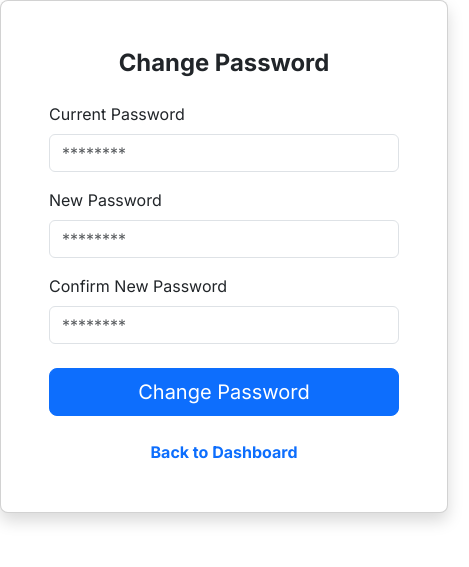
Scenario: ProfileSettings › shows validation error for empty new password
Type "oldpass" into the password field labelled "Current Password" at point(224, 153), box left=49, top=134, right=399, bottom=172
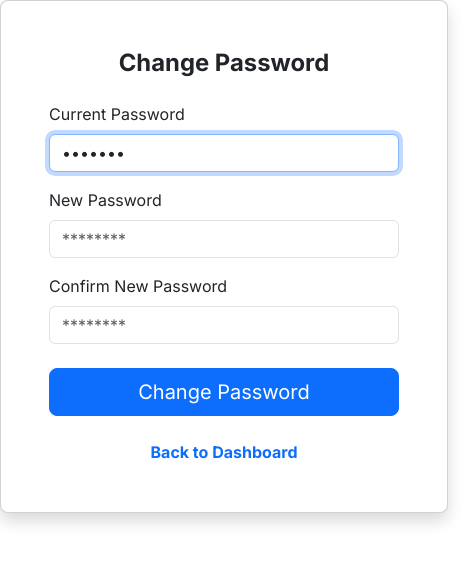
Click the button "Change Password" at point(224, 392), box left=49, top=368, right=399, bottom=416
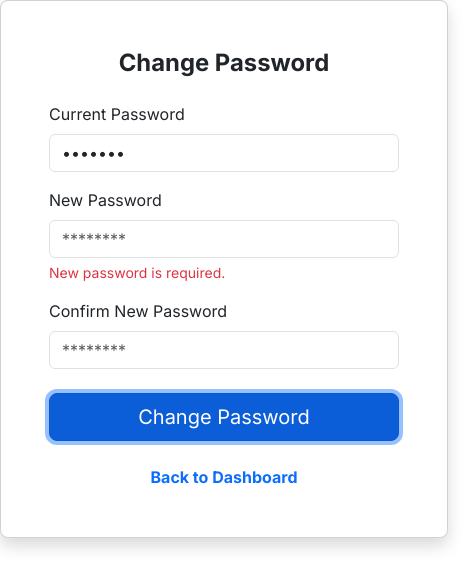
Check: the text "New password is required." is shown, box left=49, top=264, right=225, bottom=281
